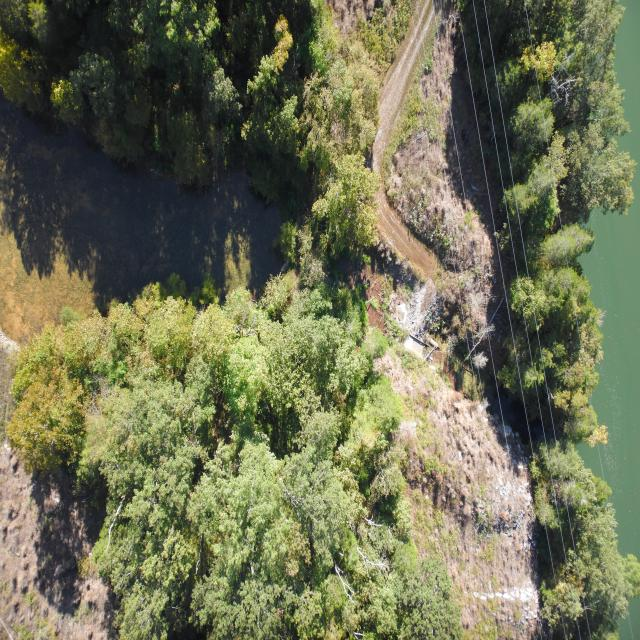Area of Interest: (32, 305, 439, 628), (11, 1, 356, 197), (512, 0, 615, 612)
